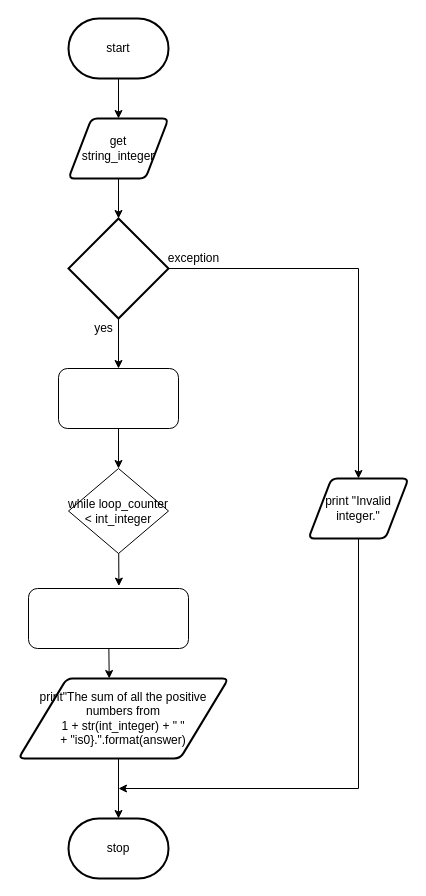
This 426x896 diagram has some shape labels left out. Here are the shapes that lost their labels. From the top down, the centre of each, then its label:
At (118,268): "try".
At (118,398): "convert string to int".
At (108,618): "loop_counter = loop_counter + 1 answer = answer + loop_counter".
